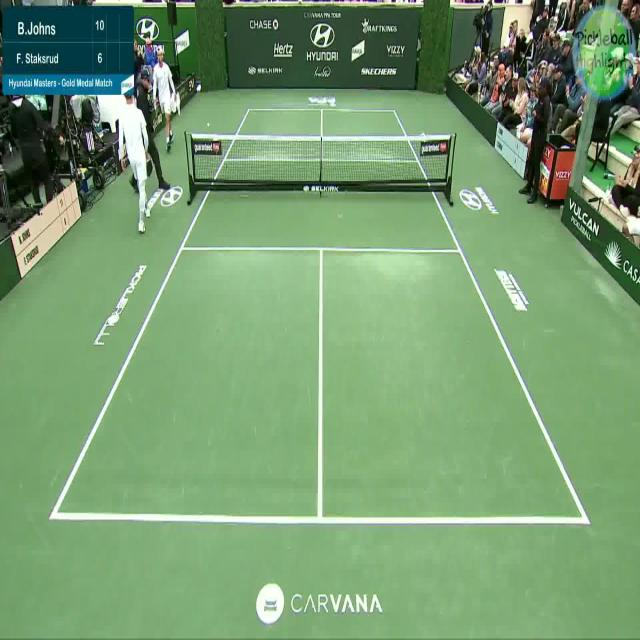ball: (204, 114, 214, 130)
